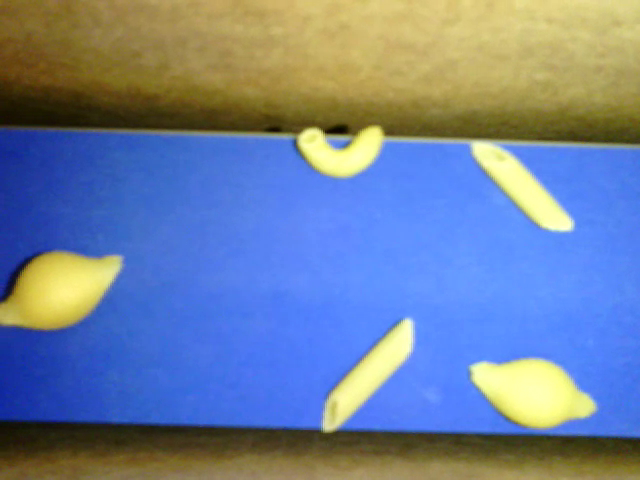elbow: (298, 122, 384, 179)
penne: (321, 317, 413, 433), (470, 141, 574, 232)
shell: (1, 250, 125, 328), (468, 356, 598, 428)
